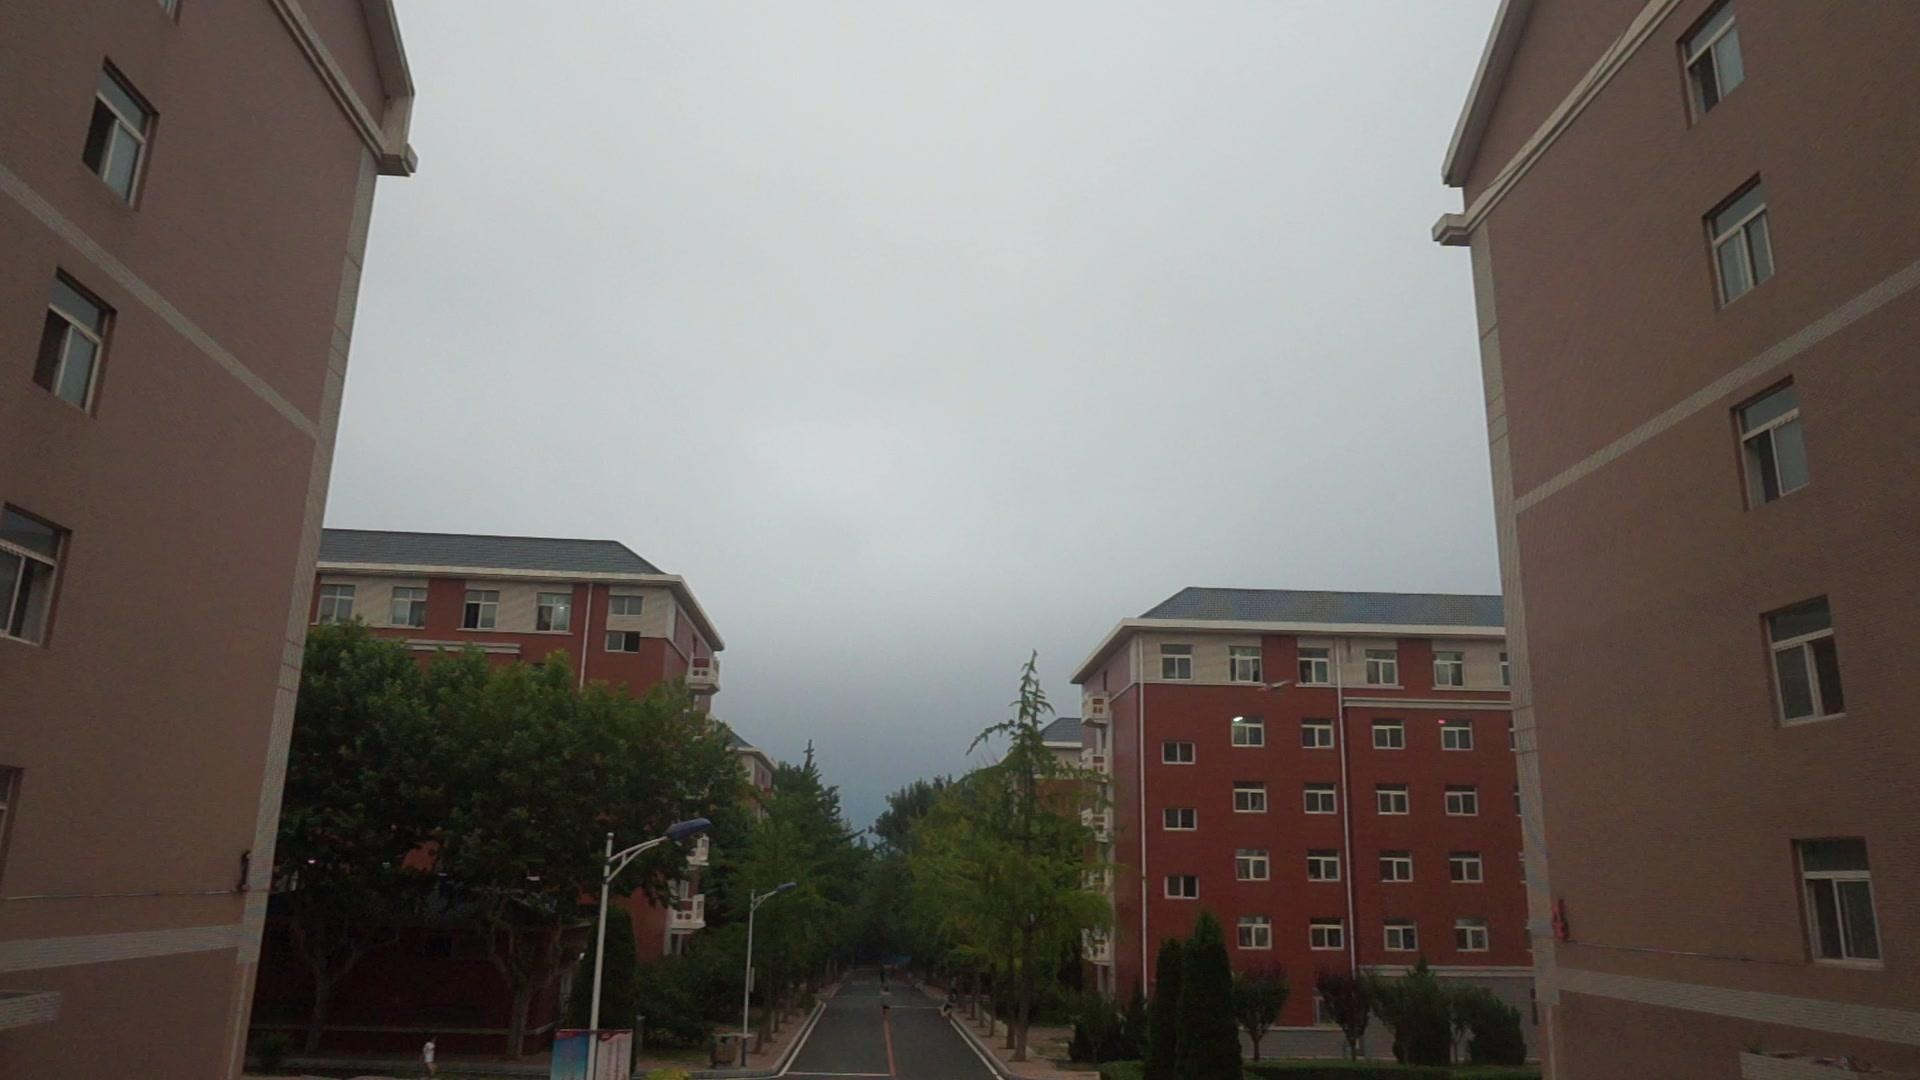UAV: (1257, 680, 1294, 696)
